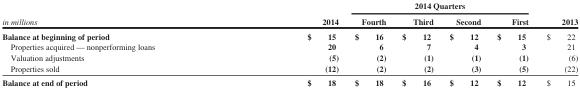table: (1, 0, 577, 87)
table column: (1, 0, 230, 87), (230, 0, 345, 87), (345, 0, 393, 87), (440, 0, 488, 87), (488, 0, 536, 87), (393, 0, 440, 87), (536, 0, 577, 87)
table column header: (1, 0, 577, 28)
table row: (1, 13, 577, 28), (1, 0, 577, 13), (1, 28, 577, 41), (1, 62, 577, 75), (1, 75, 577, 87), (1, 51, 577, 62), (1, 41, 577, 51)
table spanning cell: (1, 0, 230, 28), (230, 0, 345, 28), (345, 0, 536, 13), (536, 0, 577, 28)
